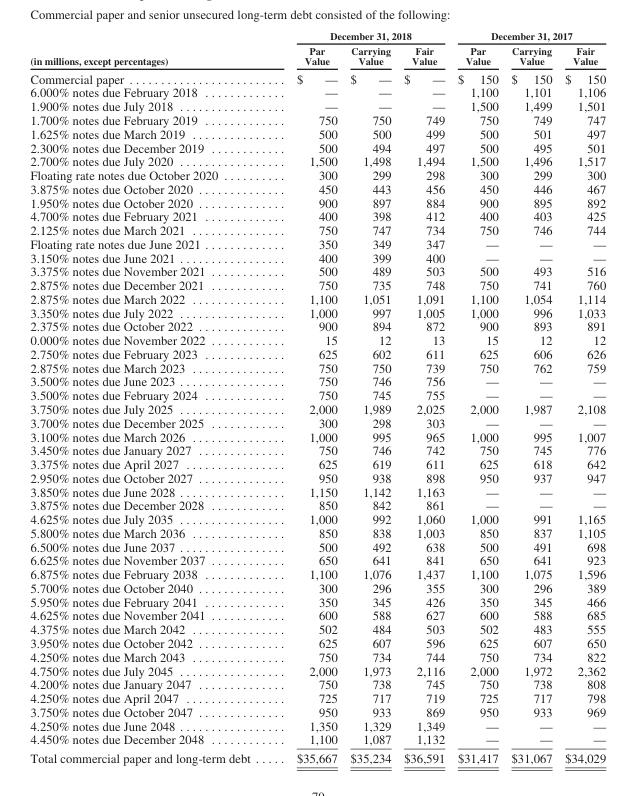table: (29, 29, 605, 764)
table column: (29, 29, 272, 764), (272, 29, 343, 764), (396, 29, 450, 764), (450, 29, 504, 764), (343, 29, 396, 764), (504, 29, 557, 764), (557, 29, 605, 764)
table column header: (29, 29, 605, 68)
table row: (29, 42, 605, 68), (29, 68, 605, 85), (29, 732, 605, 748), (29, 748, 605, 764), (29, 85, 605, 99), (29, 112, 605, 126), (29, 126, 605, 140), (29, 140, 605, 154), (29, 167, 605, 181), (29, 181, 605, 195), (29, 195, 605, 209), (29, 222, 605, 236), (29, 236, 605, 250), (29, 250, 605, 264), (29, 277, 605, 291), (29, 291, 605, 305), (29, 305, 605, 319), (29, 319, 605, 333), (29, 346, 605, 360), (29, 360, 605, 374), (29, 374, 605, 388), (29, 401, 605, 415), (29, 415, 605, 429), (29, 429, 605, 443), (29, 456, 605, 470), (29, 470, 605, 484), (29, 484, 605, 498), (29, 511, 605, 525), (29, 525, 605, 539), (29, 539, 605, 553), (29, 566, 605, 580), (29, 580, 605, 594), (29, 594, 605, 608), (29, 608, 605, 622), (29, 635, 605, 649), (29, 649, 605, 663), (29, 663, 605, 677), (29, 690, 605, 704), (29, 704, 605, 718), (29, 718, 605, 732), (29, 29, 605, 42), (29, 99, 605, 112), (29, 154, 605, 167), (29, 209, 605, 222), (29, 264, 605, 277), (29, 333, 605, 346), (29, 388, 605, 401), (29, 443, 605, 456), (29, 498, 605, 511), (29, 553, 605, 566), (29, 622, 605, 635), (29, 677, 605, 690)
table spanning cell: (29, 29, 272, 68), (272, 29, 450, 42), (450, 29, 605, 42)
